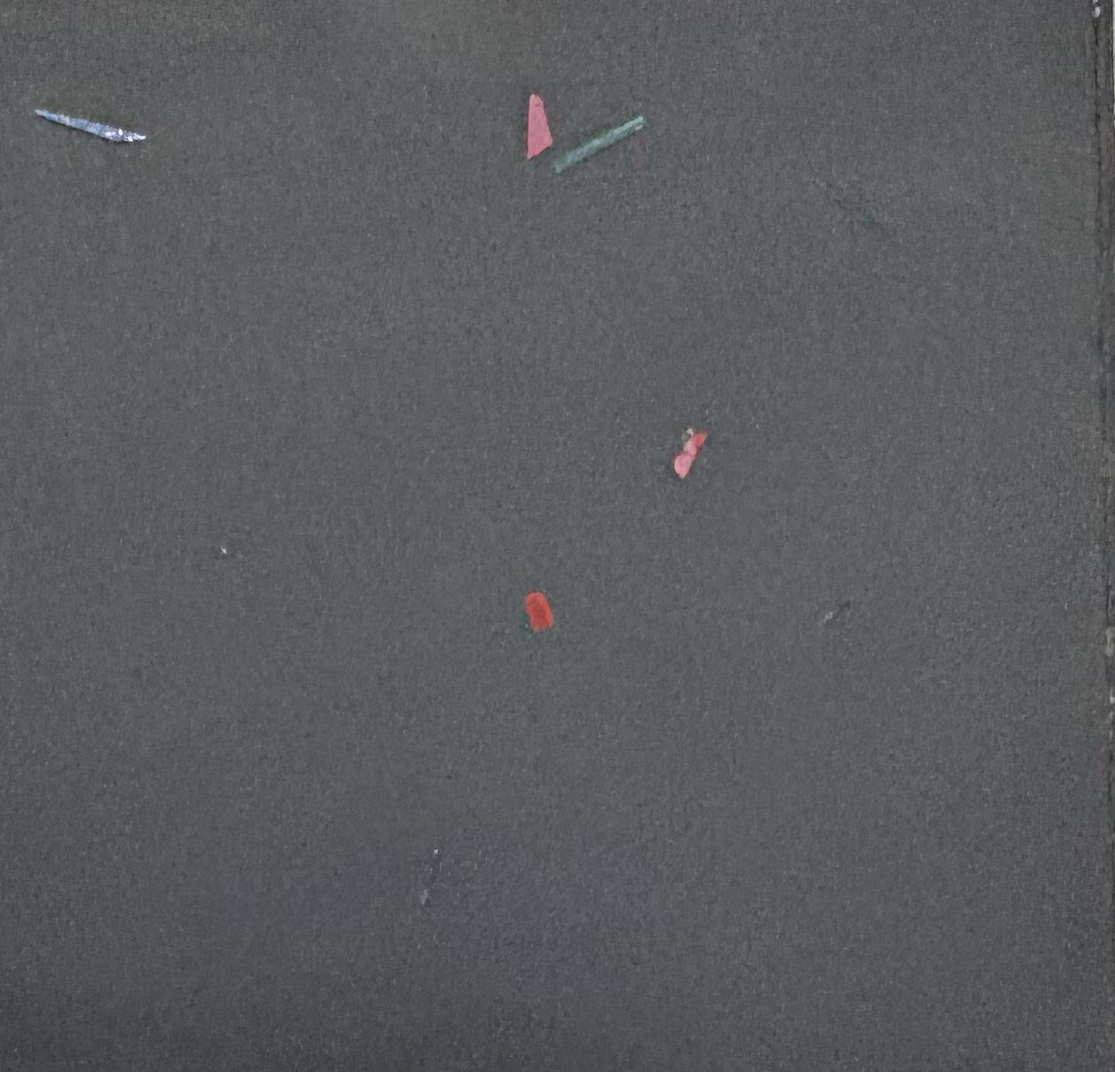Microplastic Particle: (553, 116, 644, 173), (35, 109, 145, 141), (526, 94, 552, 159), (673, 429, 706, 478), (418, 847, 442, 907), (524, 591, 553, 631), (822, 599, 852, 625), (219, 547, 227, 555)
